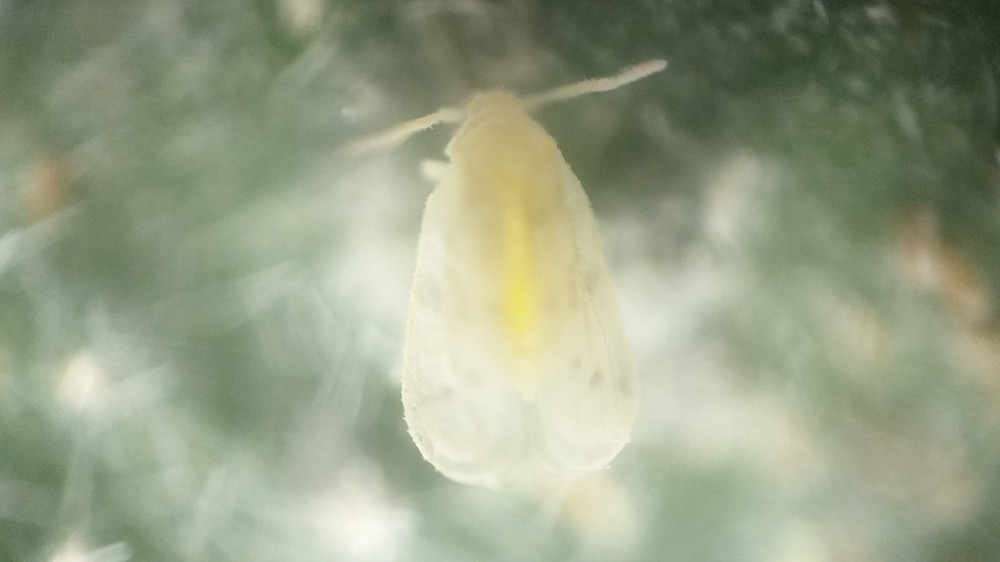Mosca Blanca: (332, 57, 715, 497)
